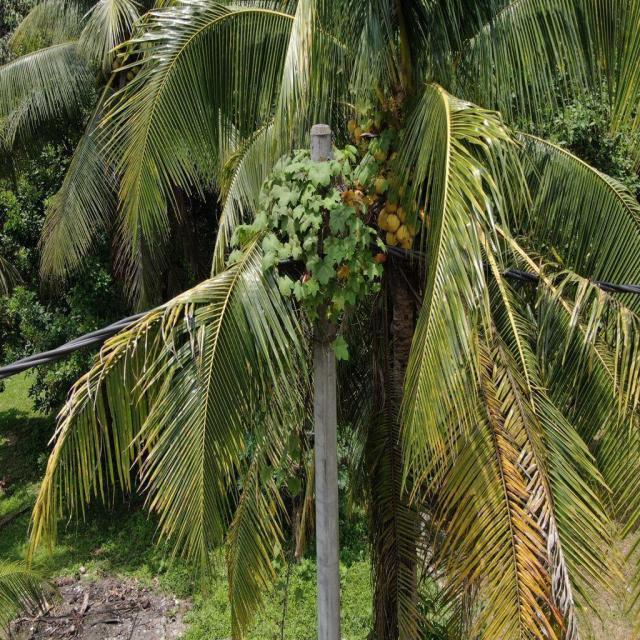critical vegetation: (245, 132, 394, 342)
